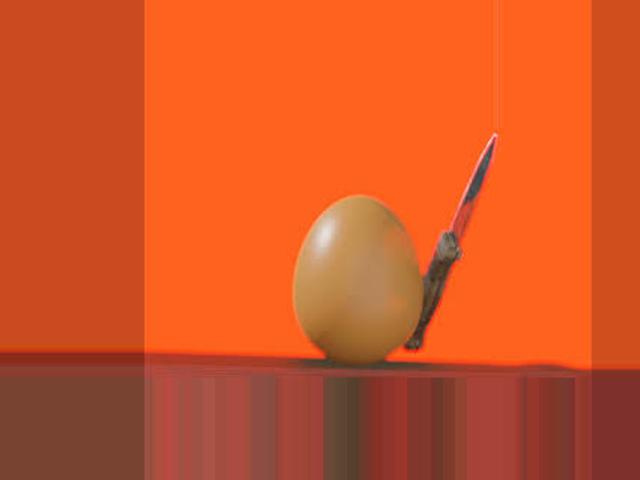egg: (294, 198, 422, 361)
